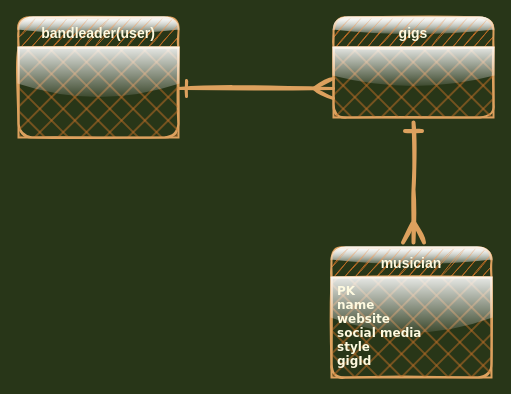
Image size: 511x394. Some labels were removed from this diagram. Here are the shapes that lost their labels. From the top down, the centre of each, then its label:
At pixel 98 92: "PK name band website social media".
At pixel 413 82: "PK name location bandleaderId".
